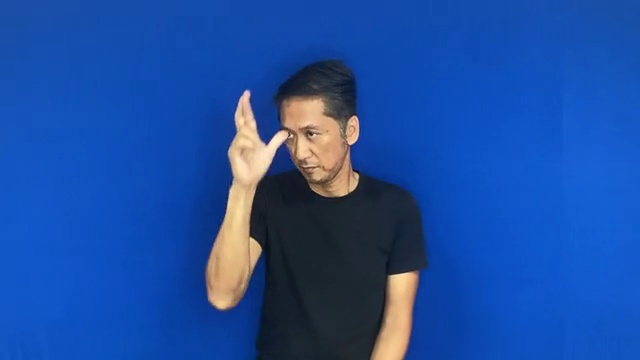chicken: (214, 86, 298, 187)
